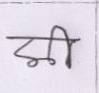i_matra: (53, 25, 76, 68)
